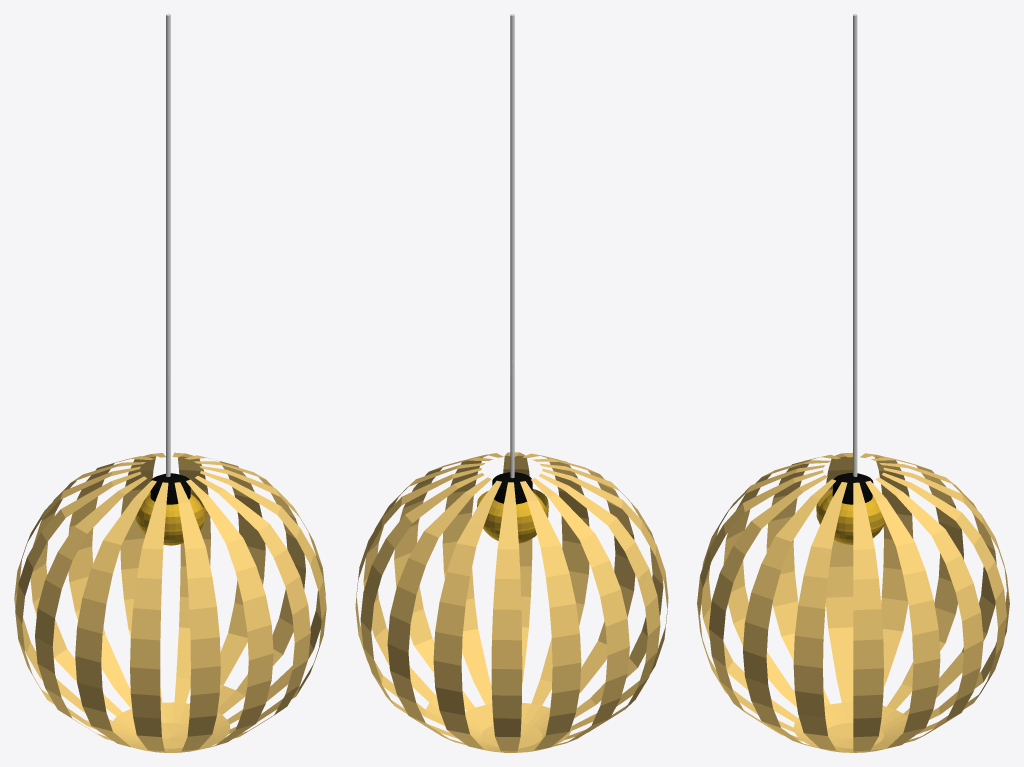
File: sphere_lamp.glb
The picture shows the model from 3 angles, left to right: view 1: azimuth 30°, elevation 25°; view 2: azimuth 150°, elevation 25°; view 3: azimuth 270°, elevation 25°; orthographic projection.
Visible parts, largest first — view 1: sphere lamp; view 2: sphere lamp; view 3: sphere lamp.
Part boxes in pixels (box(x1,y1,x2,y2)): sphere lamp: box(14, 14, 326, 752); sphere lamp: box(355, 14, 668, 752); sphere lamp: box(697, 14, 1009, 752).
Bounding box in the file's own units: 0.583 × 1.48 × 0.583.
